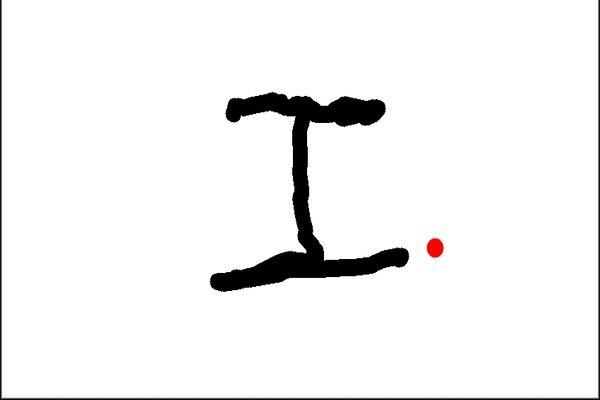i: (196, 90, 412, 295)
